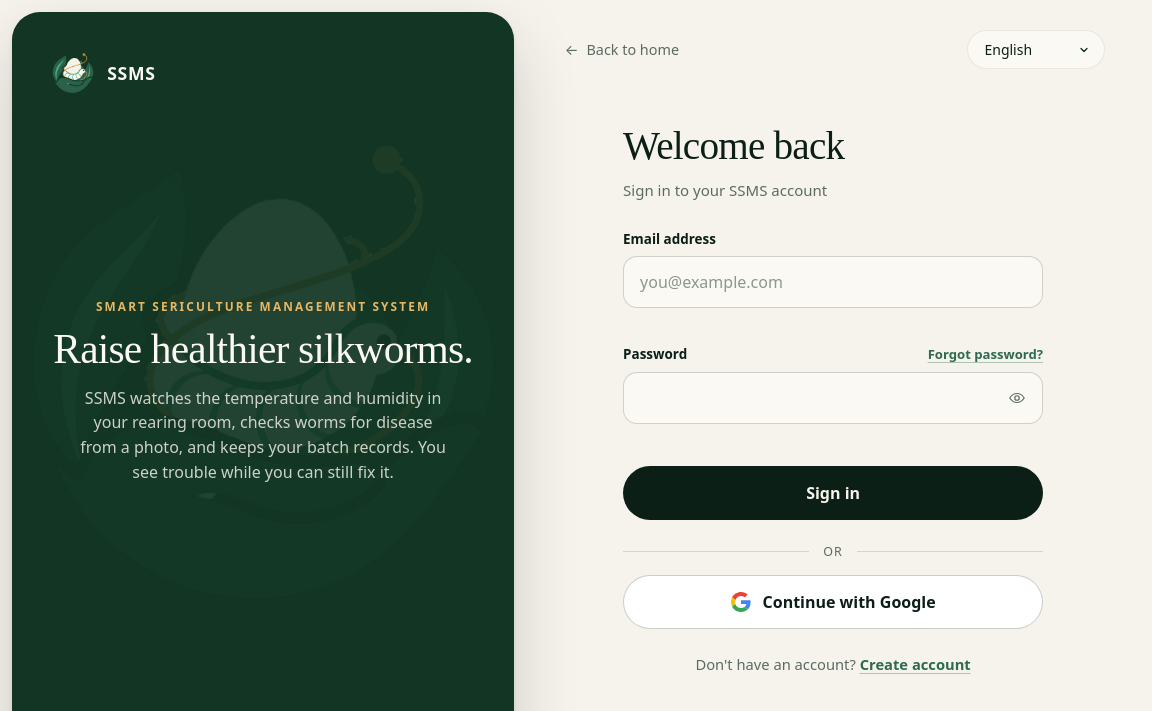
Test: Login page › an account whose email is not verified › offers a new link and sends it to the address typed
The width and height of the screenshot is (1152, 711).
Type "a@b.rw" into the field labelled "Email address". click: (833, 282)
box: [623,256,1043,308]
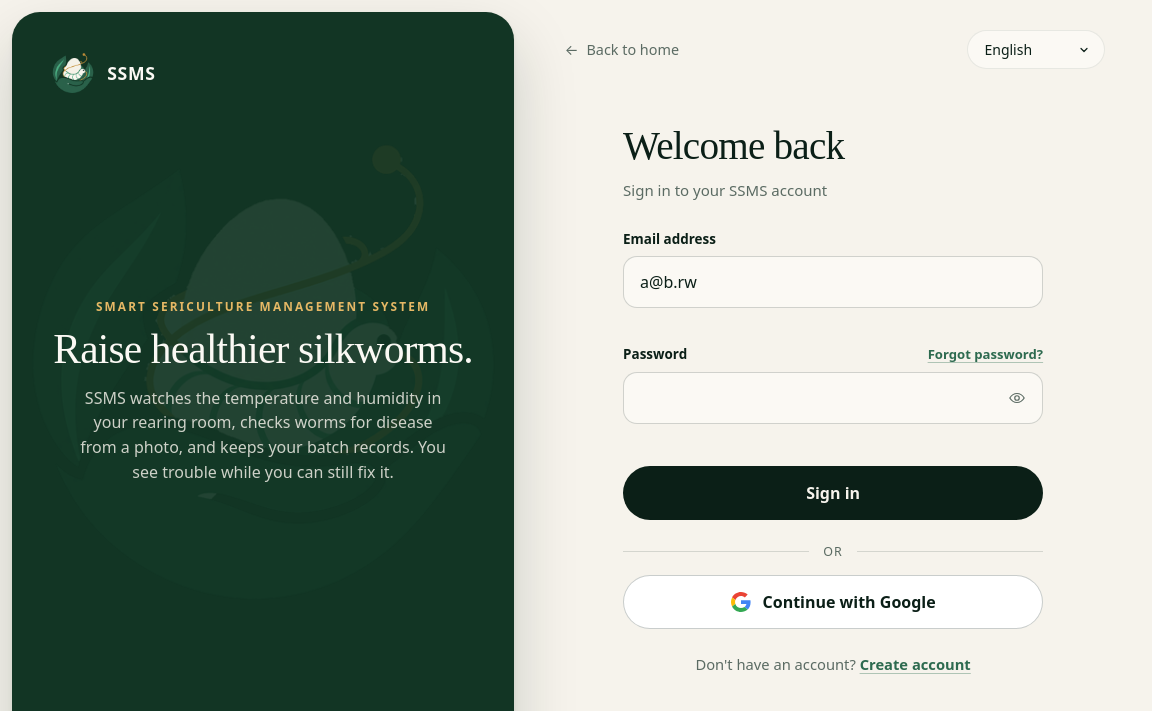
Type "Secret123" into the password field labelled "Password". click: (833, 398)
box: [623,372,1043,424]
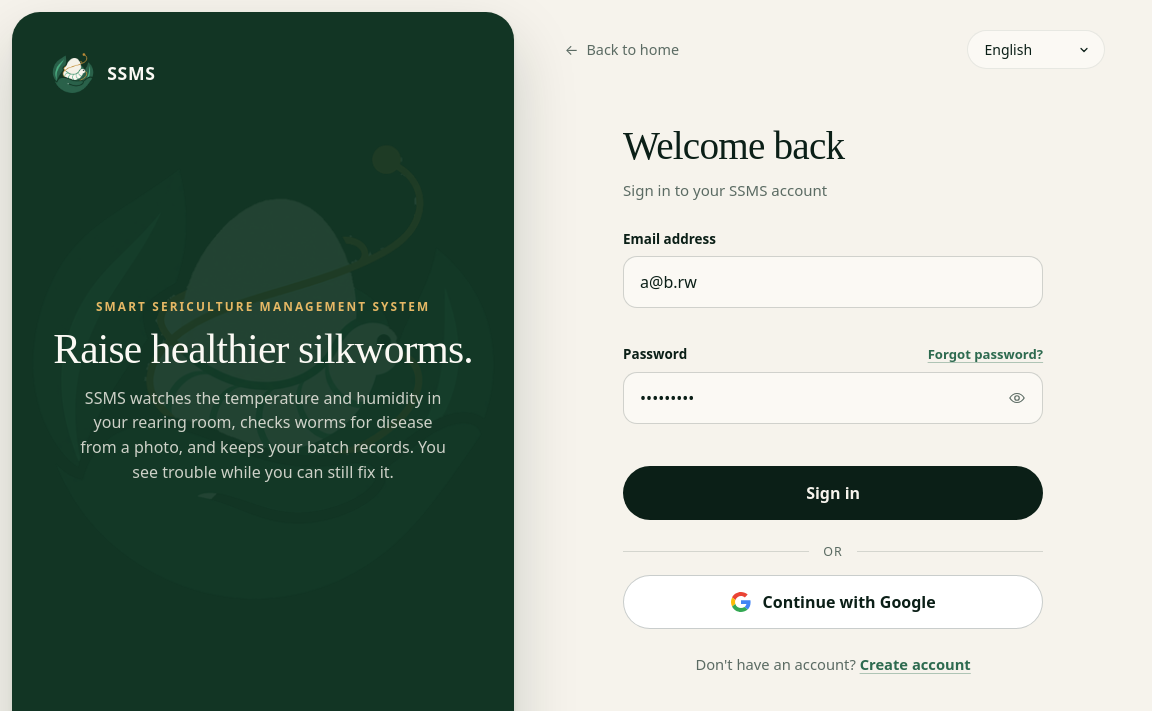
Click the button "Sign in". click: (833, 493)
box: [623,466,1043,520]
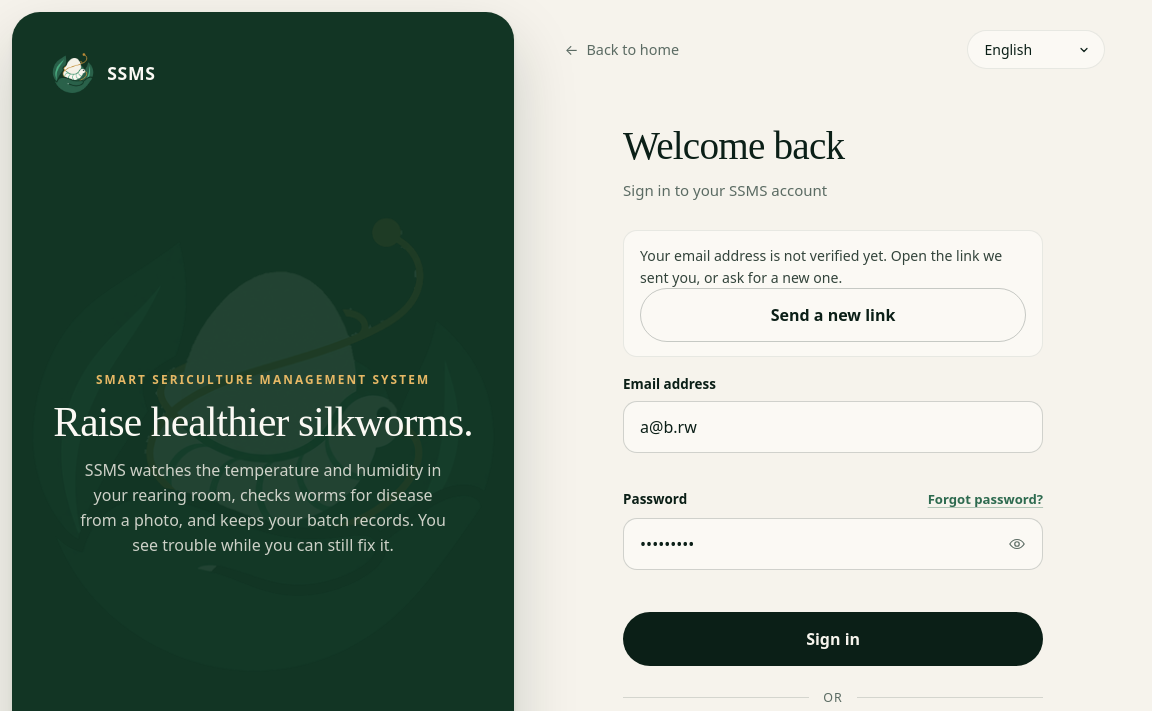
Click the button "Send a new link". click: (833, 315)
box: [640,288,1026,342]
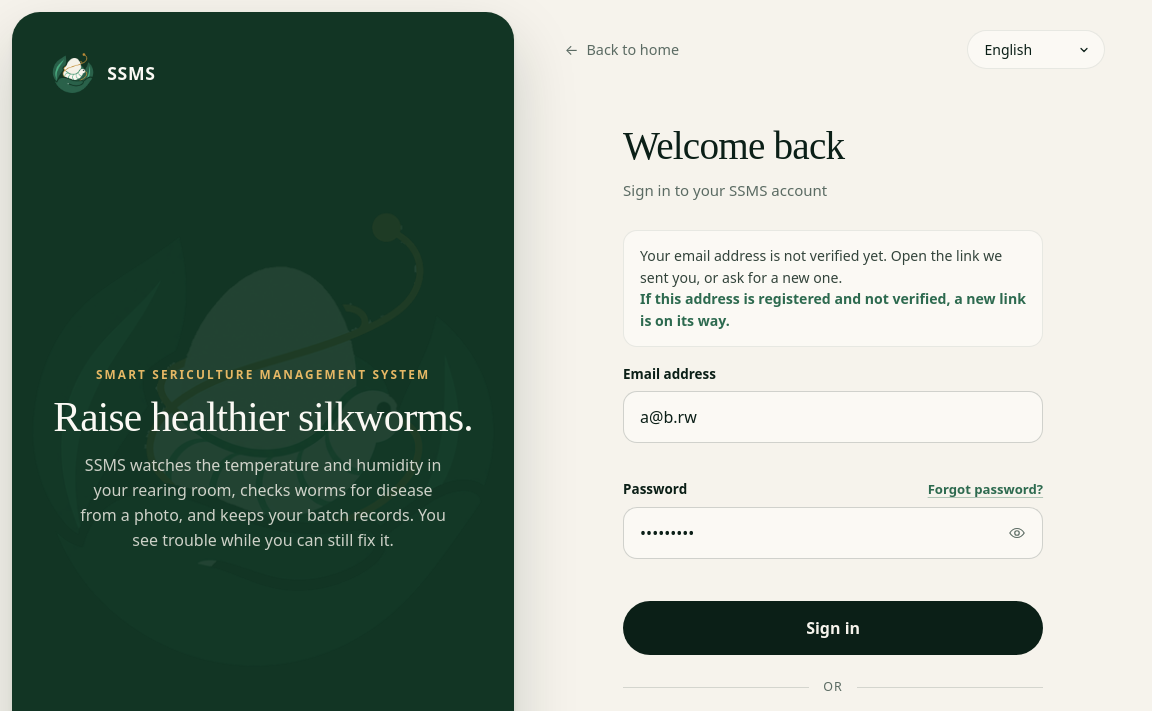
Expected: the text "a new link is on its way" is shown, [640,289,1026,330]
Expected: the button "Send a new link" is gone
